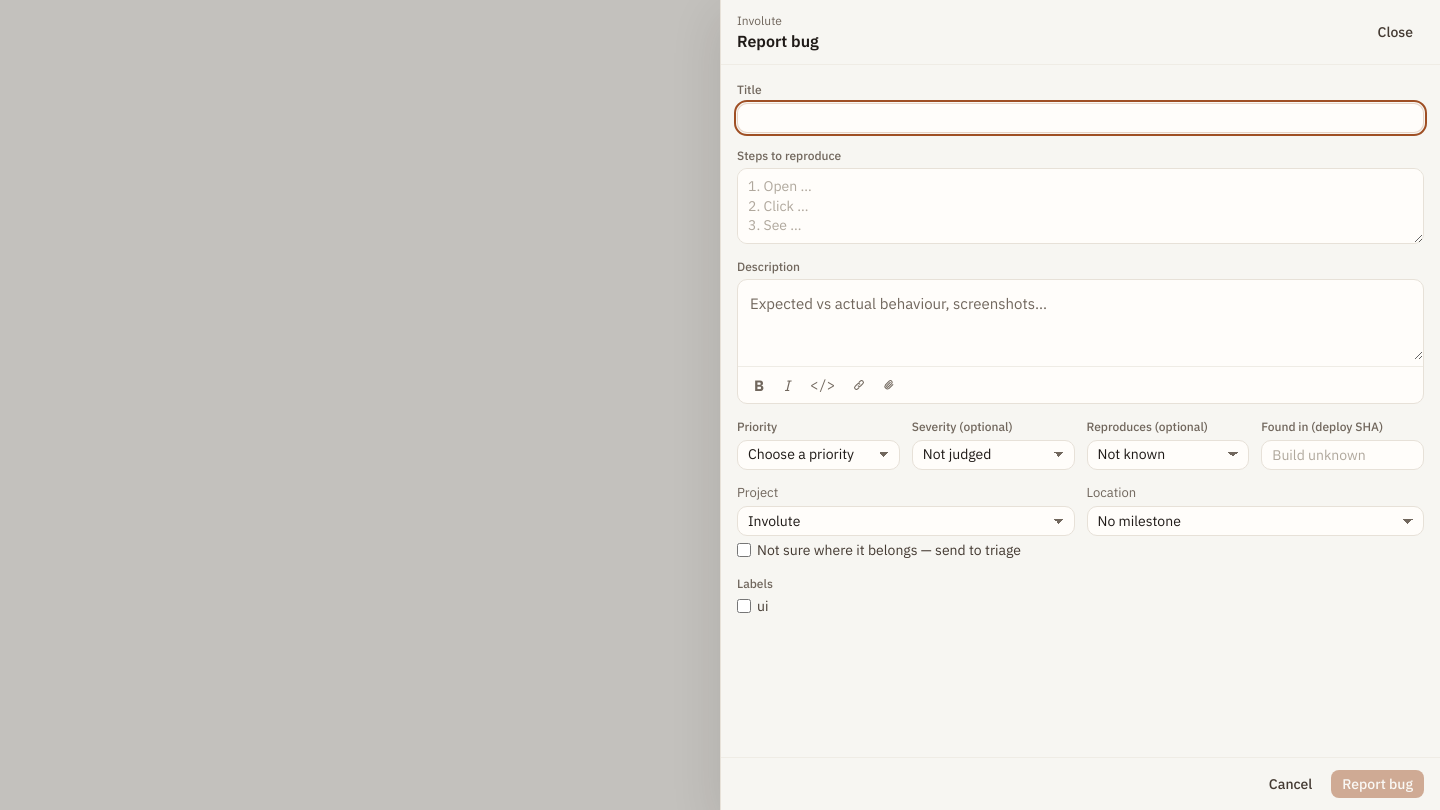
Scenario: ReportBugDialog (INV-749) › shows why the server refused the report
Type "Crash on drag" into the field named "Bug title" at {"x": 1080, "y": 118}, box [737,103,1424,133]
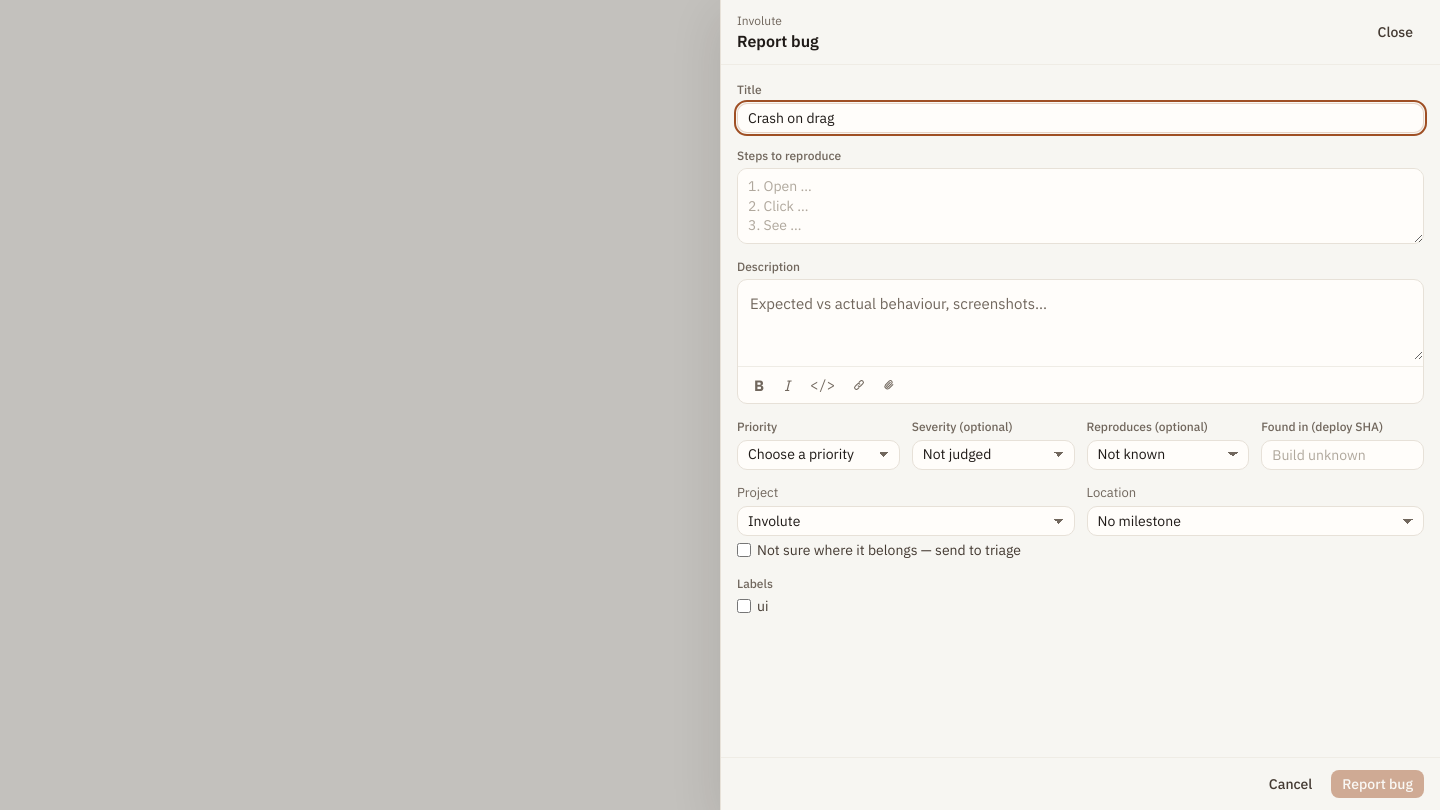
Type "1. Drag a card" into the text box labelled "Steps to reproduce" at {"x": 1080, "y": 206}, box [737,168,1424,244]
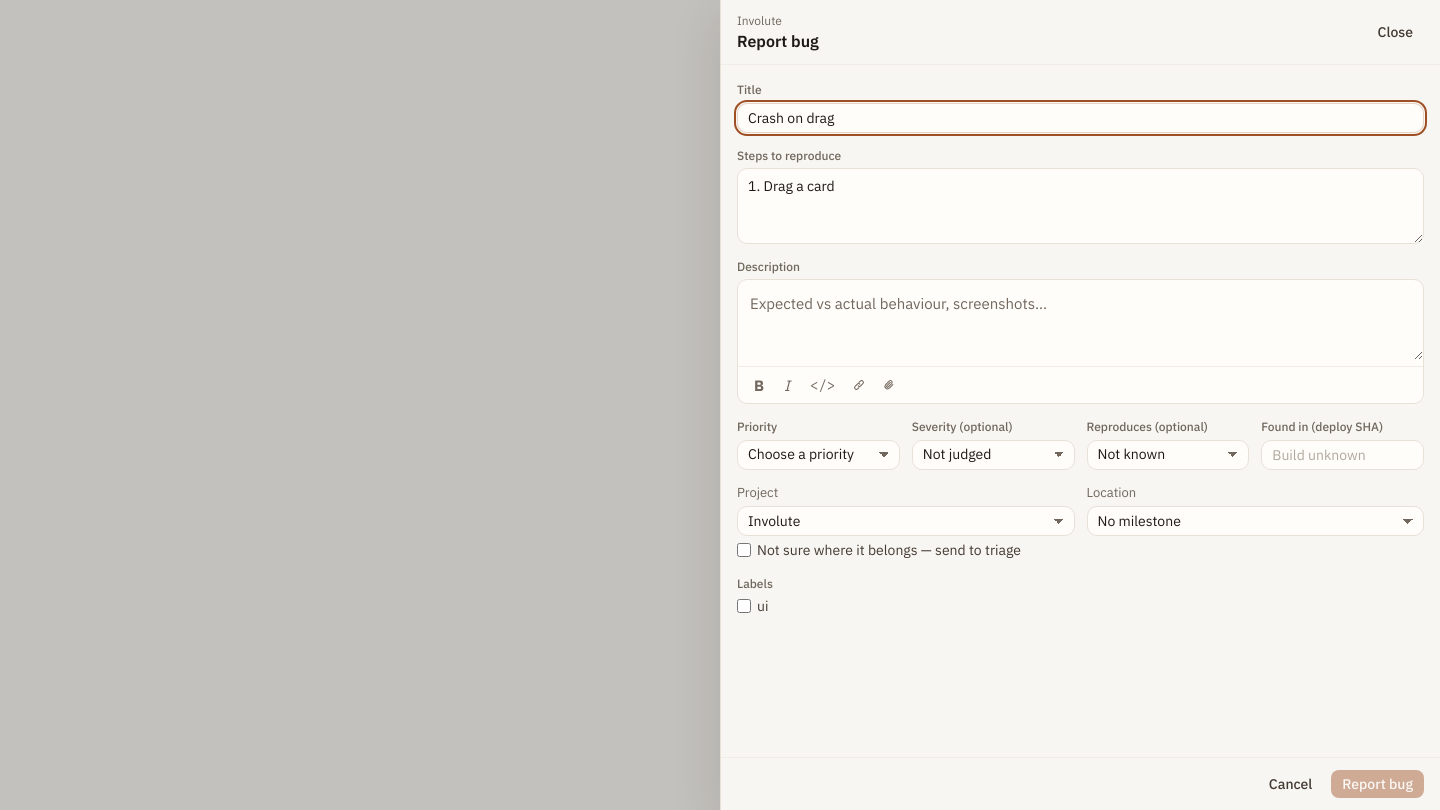
Select "Urgent" in the dropdown named "Bug priority" at {"x": 818, "y": 454}, box [737,440,900,470]
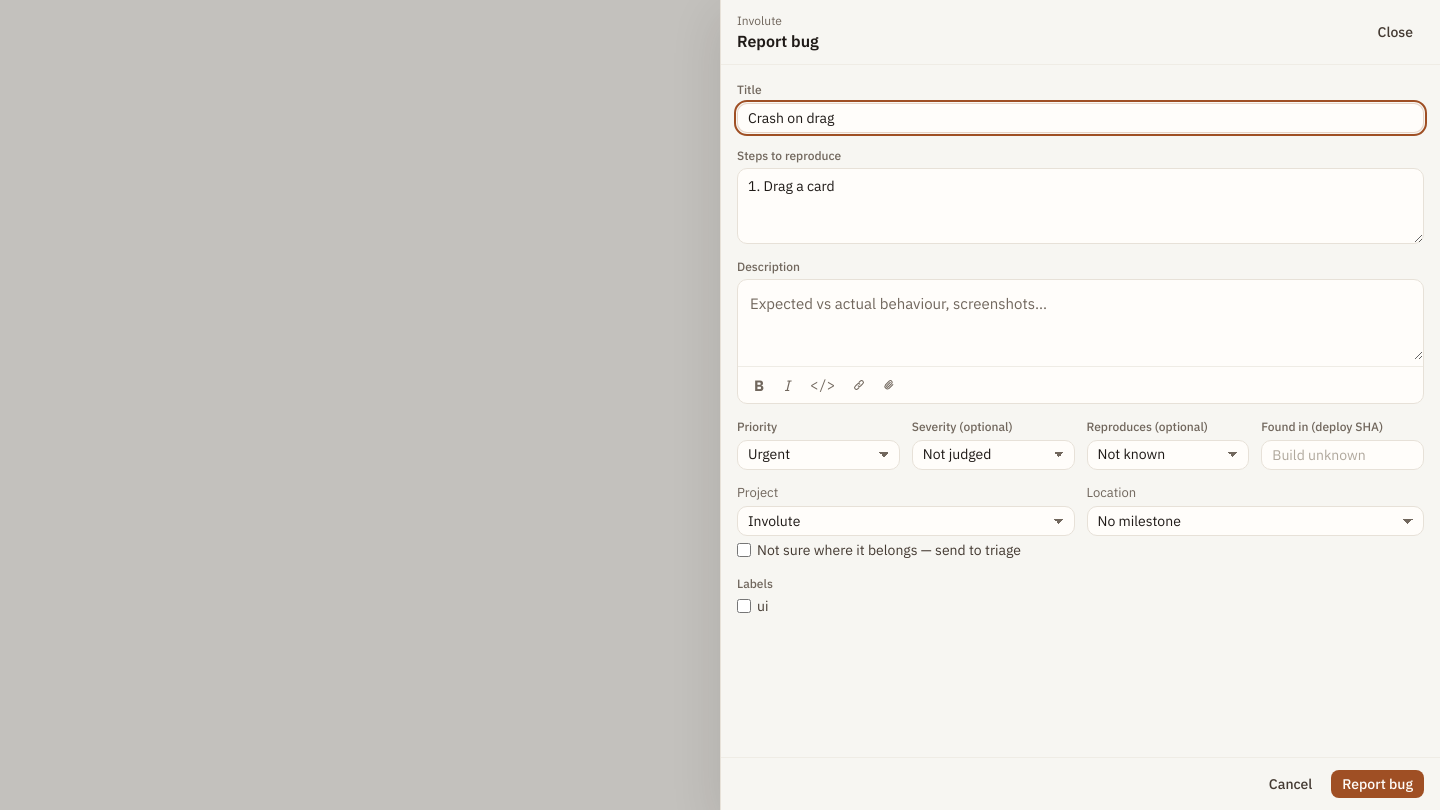
Click the button "Report bug" at {"x": 1378, "y": 784}, box [1331,770,1424,798]
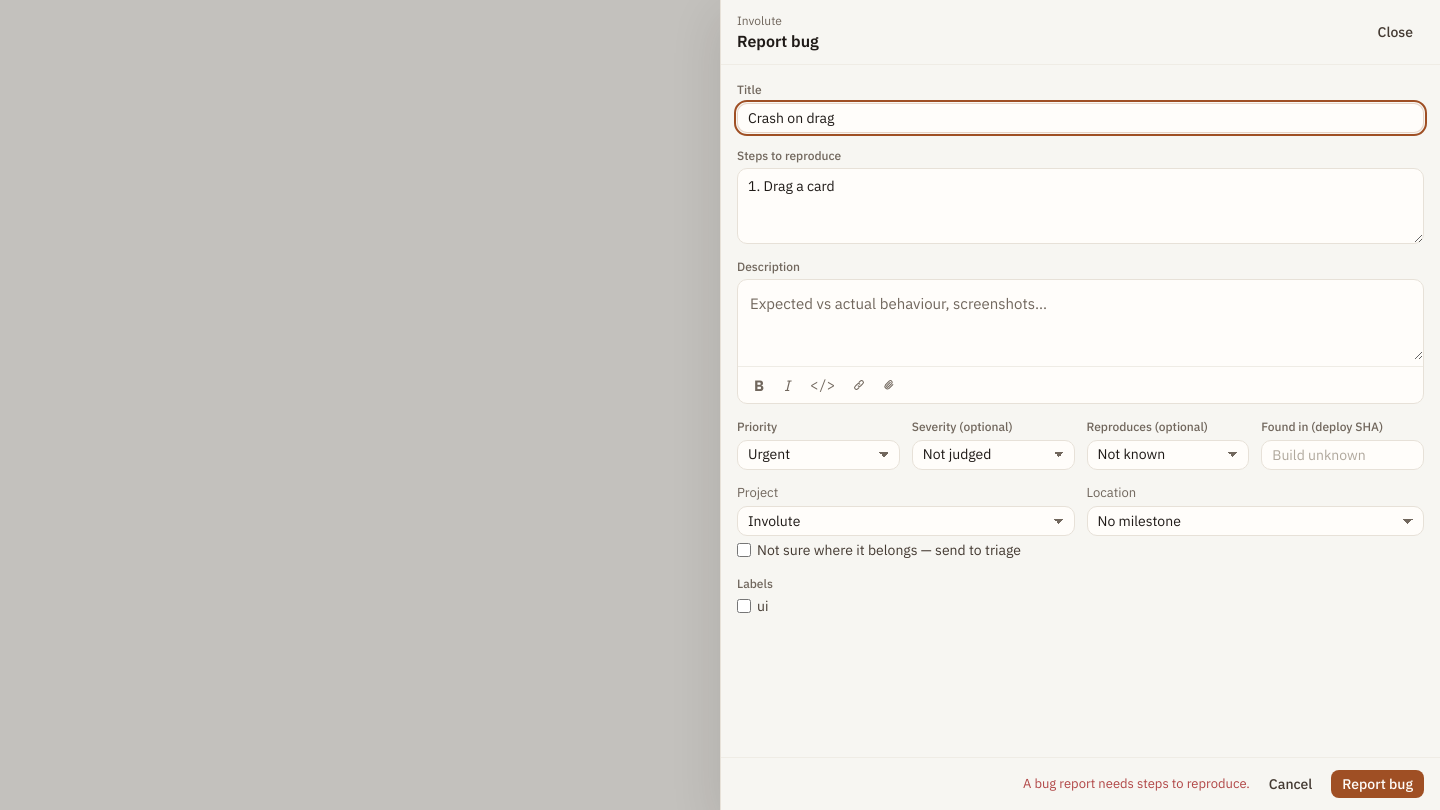
Now the message reads "A bug report needs steps to reproduce.", box [1023,775,1250,792]
